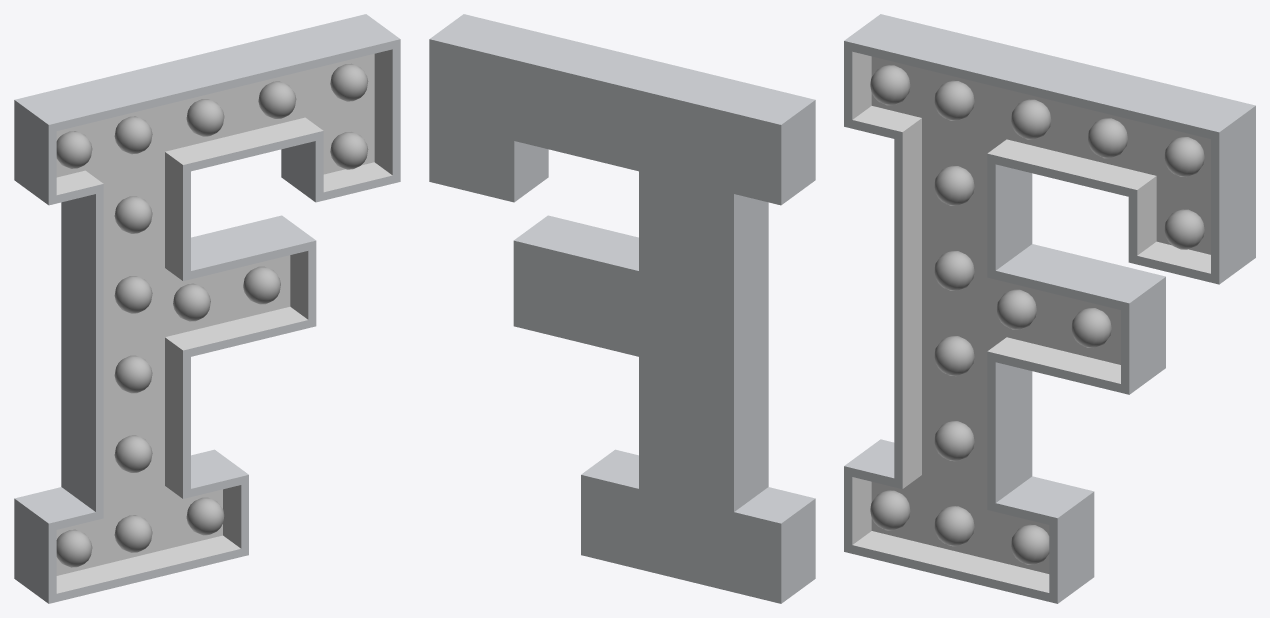
File: LettersBulb01_F.FBX
3 renders of one model, left to right at view 1: azimuth 30°, elevation 25°; view 2: azimuth 150°, elevation 25°; view 3: azimuth 330°, elevation 25°, orthographic. The views are drawn at different scales.
Visible parts, largest first — view 1: LettersBulb01_F; view 2: LettersBulb01_F; view 3: LettersBulb01_F.
Part boxes in pixels (box(x1,y1,x2,y2)): LettersBulb01_F: box(14, 14, 400, 603); LettersBulb01_F: box(429, 14, 815, 603); LettersBulb01_F: box(844, 14, 1255, 603).
Size of what is drawn, in the model's own units: 0.9188 by 1.2 by 0.1563.
